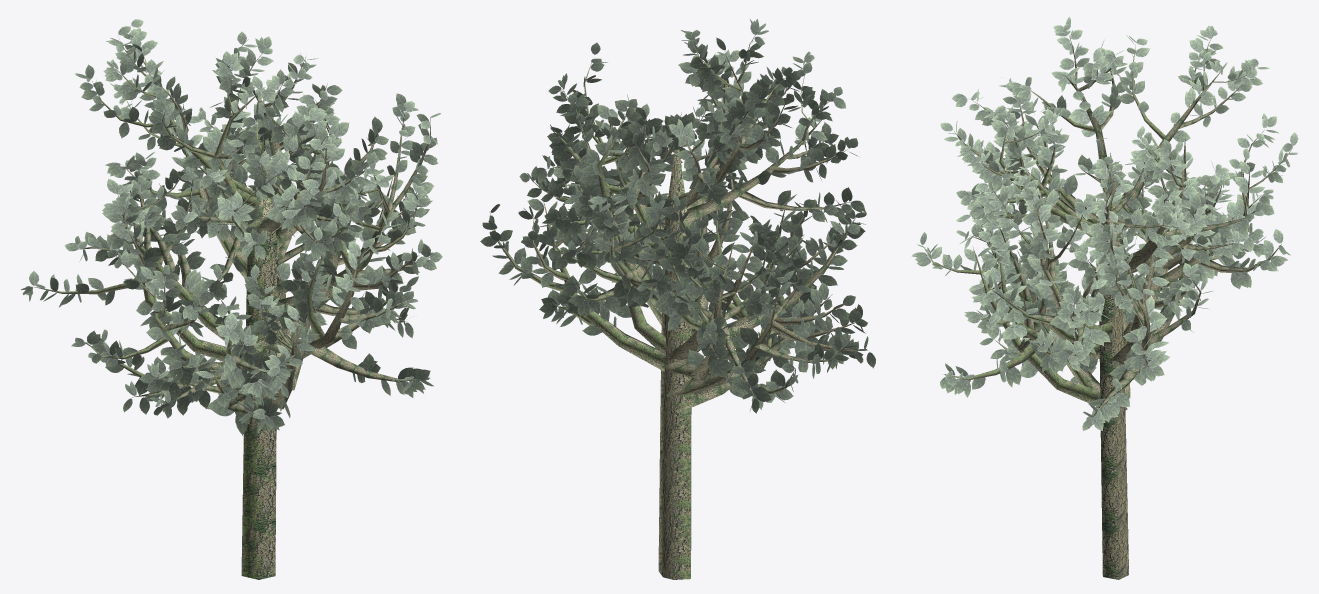
File: OakTree4.obj
3 renders of one model, left to right at view 1: azimuth 30°, elevation 25°; view 2: azimuth 150°, elevation 25°; view 3: azimuth 270°, elevation 25°, orthographic. The views are drawn at different scales.
Visible parts, largest first — view 1: trunk; view 2: trunk; view 3: trunk.
Boxes of the visible parts, x1,y1,x2,y2 form: trunk: (21, 19, 442, 579); trunk: (480, 19, 875, 579); trunk: (911, 16, 1298, 579).
Bounding box in the file's own units: 26.2 × 37.37 × 25.16.
Materials: 2 (2 with a texture image).
